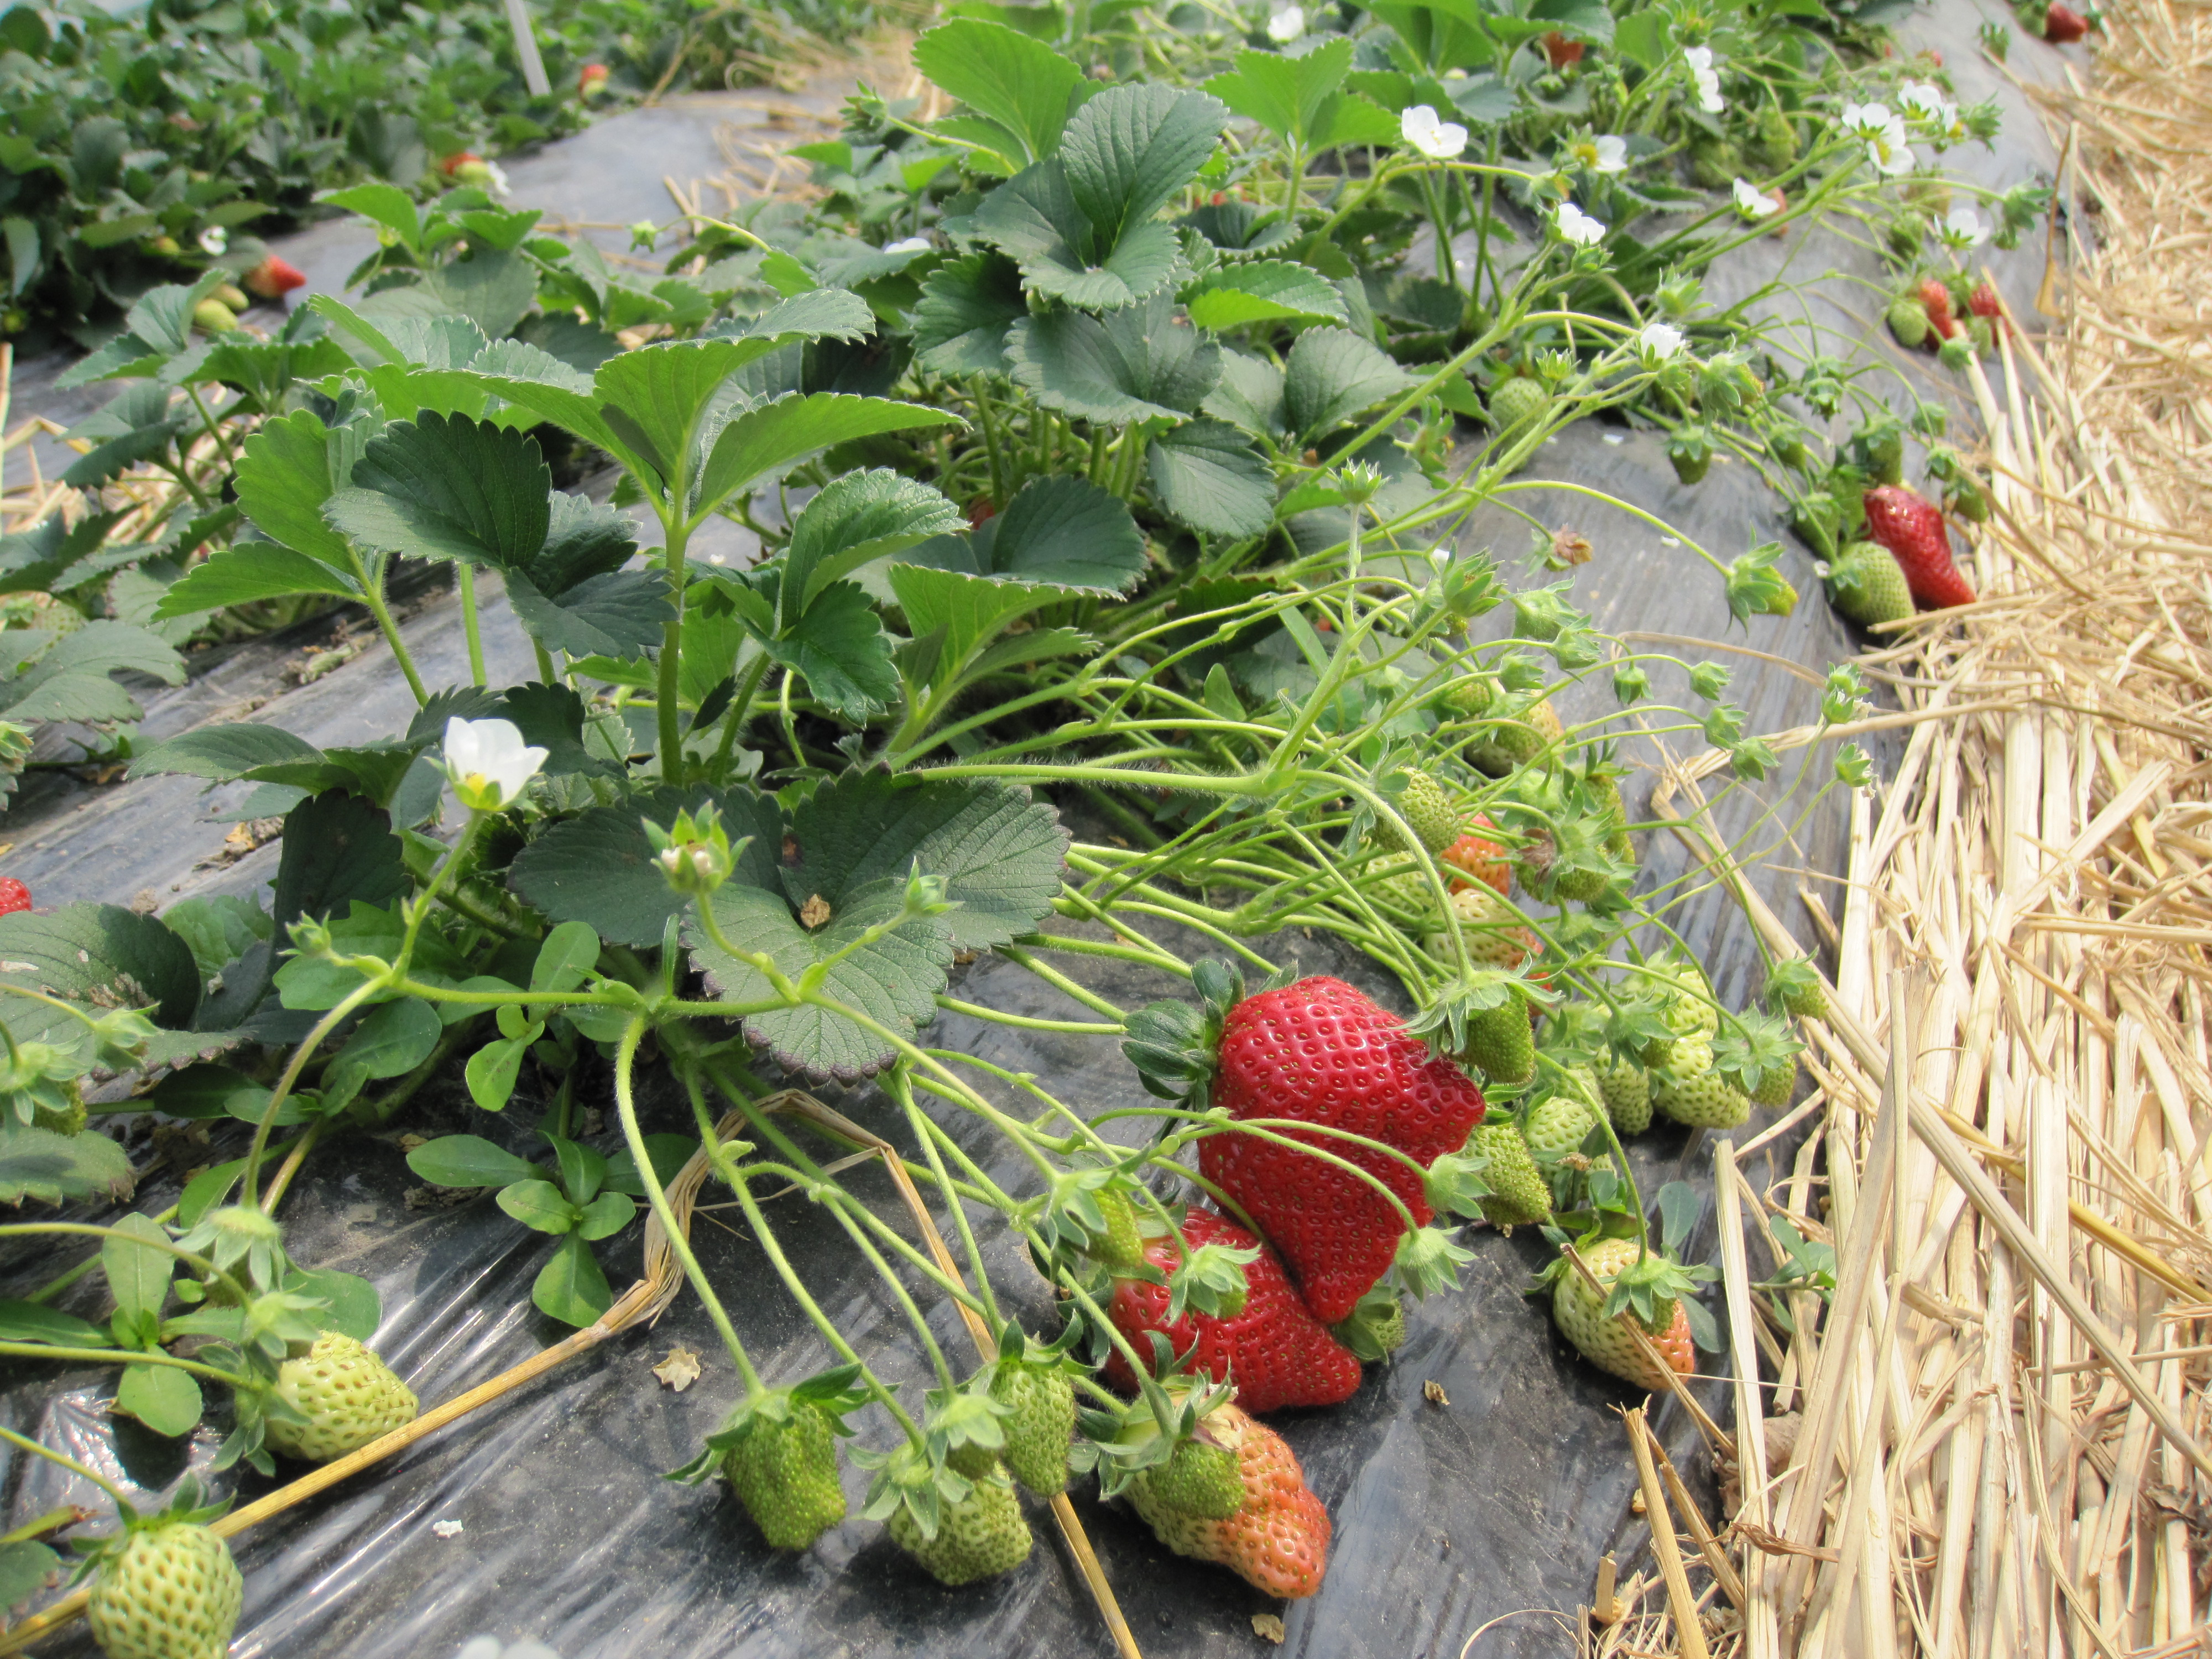StrawberryCone: (1073, 1187, 1378, 1422), (1850, 469, 1984, 612)
StrawberryIrremovable: (1120, 1380, 1324, 1605), (240, 1324, 428, 1474), (1548, 1234, 1702, 1408), (711, 1385, 855, 1558), (71, 1525, 244, 1652), (880, 1445, 1035, 1584), (954, 1344, 1087, 1502), (1414, 889, 1571, 1007), (1435, 1110, 1571, 1232), (1554, 992, 1656, 1140), (1430, 969, 1543, 1091), (1519, 1046, 1629, 1168), (1557, 753, 1646, 903), (1453, 673, 1571, 772), (1646, 1035, 1756, 1140), (1618, 939, 1723, 1040), (1825, 540, 1919, 645), (1430, 803, 1521, 911), (1717, 1007, 1803, 1119), (1353, 836, 1447, 936), (1369, 751, 1458, 852), (1148, 1441, 1247, 1530), (1480, 369, 1557, 471), (1723, 547, 1799, 622), (1421, 659, 1500, 732), (435, 143, 517, 211), (1547, 823, 1615, 903), (239, 234, 314, 305), (1679, 122, 1750, 197), (1740, 101, 1811, 169), (1764, 951, 1829, 1025), (1662, 420, 1723, 495), (183, 277, 253, 342), (1886, 295, 1926, 347)
StrawberryRemovable: (1170, 974, 1491, 1331), (1078, 1190, 1371, 1413), (1853, 476, 1980, 608)
StrawberryWedge: (1162, 969, 1491, 1333)
